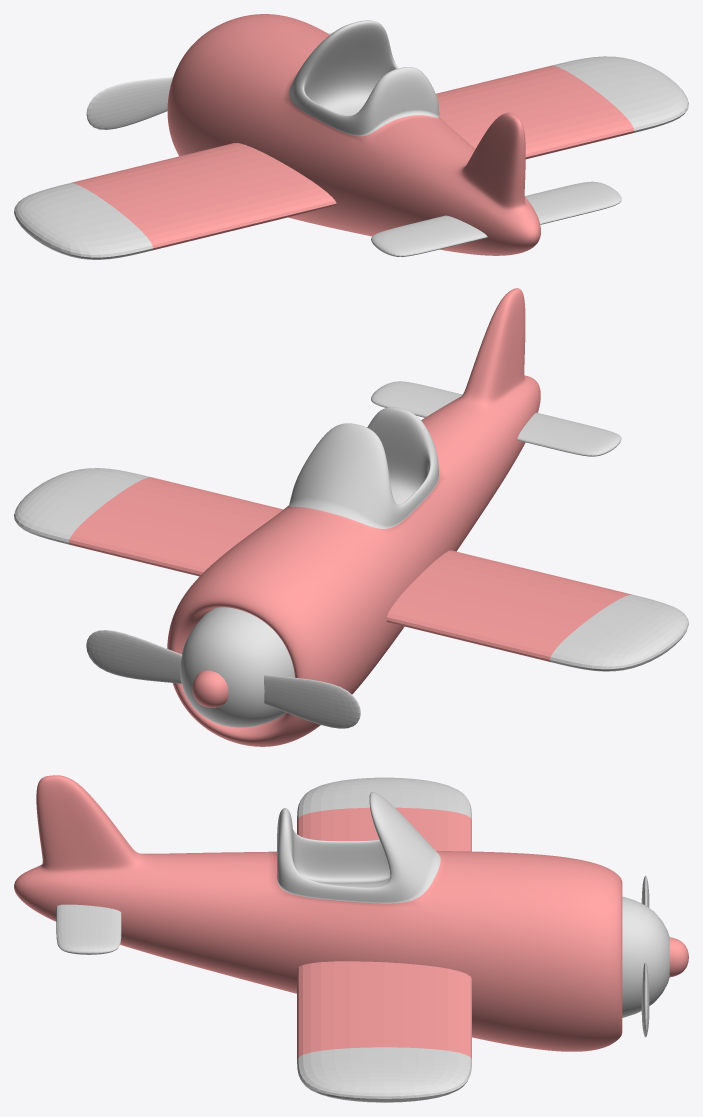
Rendered from asset.glb.
The picture shows the model from 3 angles, top to bottom: view 1: azimuth 30°, elevation 25°; view 2: azimuth 150°, elevation 25°; view 3: azimuth 270°, elevation 25°; orthographic projection. The views are drawn at different scales.
Parts seen in each view (by area): view 1: Cube, 立方体, 立方体.001, 立方体.004; view 2: Cube, 立方体, 立方体.002, 立方体.004, 立方体.001, 立方体.003; view 3: Cube, 立方体, 立方体.002, 立方体.001, 立方体.004, 立方体.003.
Boxes of the visible parts, bbox=[...] form: Cube: bbox=[167, 14, 540, 255]; 立方体: bbox=[14, 56, 688, 259]; 立方体.001: bbox=[371, 181, 621, 256]; 立方体.004: bbox=[86, 32, 333, 129]; Cube: bbox=[167, 288, 540, 746]; 立方体: bbox=[14, 468, 688, 671]; 立方体.002: bbox=[180, 607, 294, 727]; 立方体.004: bbox=[86, 630, 360, 728]; 立方体.001: bbox=[371, 381, 621, 456]; 立方体.003: bbox=[192, 670, 228, 707]; Cube: bbox=[14, 775, 622, 1051]; 立方体: bbox=[297, 777, 471, 1102]; 立方体.002: bbox=[622, 896, 669, 1017]; 立方体.001: bbox=[56, 904, 121, 954]; 立方体.004: bbox=[641, 875, 649, 1037]; 立方体.003: bbox=[669, 937, 688, 977].
Size of the model in its own units: 6.29 by 2.45 by 5.65.
